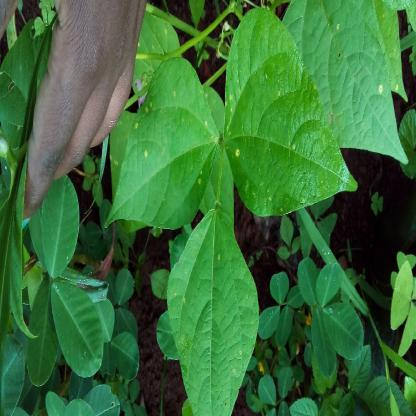Beans_Rust: (218, 11, 356, 214), (285, 1, 408, 164), (166, 209, 258, 415), (109, 59, 217, 231)
